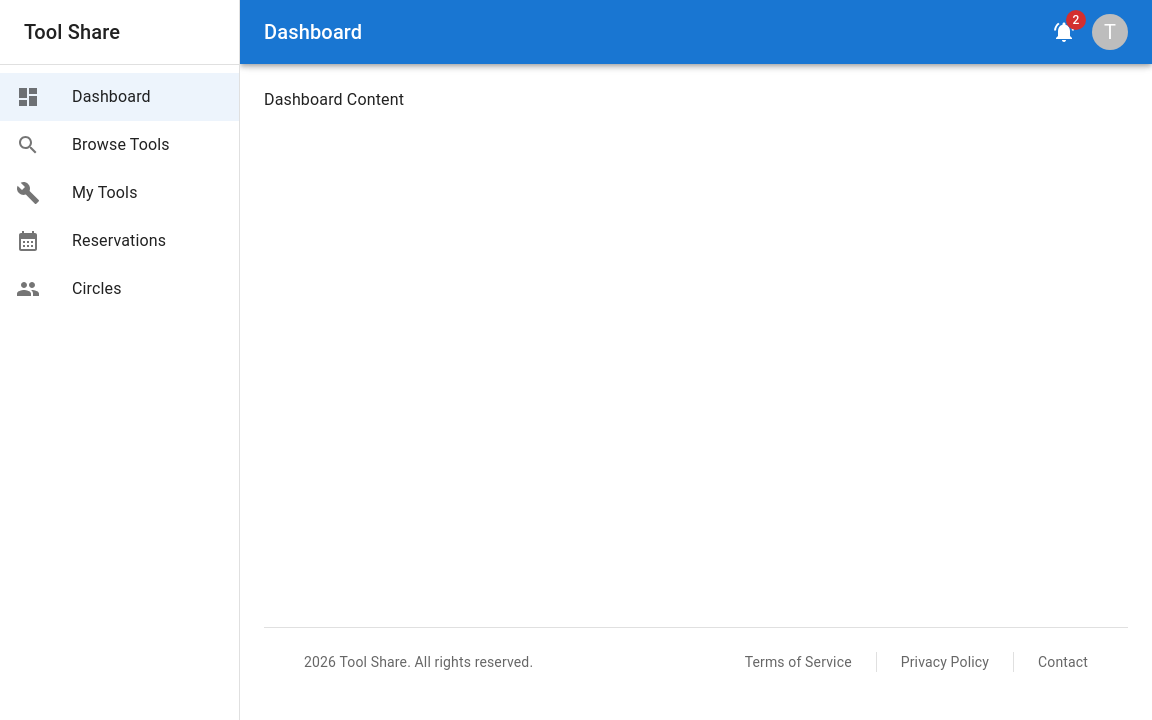
Test: Layout › user menu › should open user menu when avatar is clicked
Click the button "T". click: (1110, 32)
box: top-left (1092, 14), bottom-right (1128, 50)
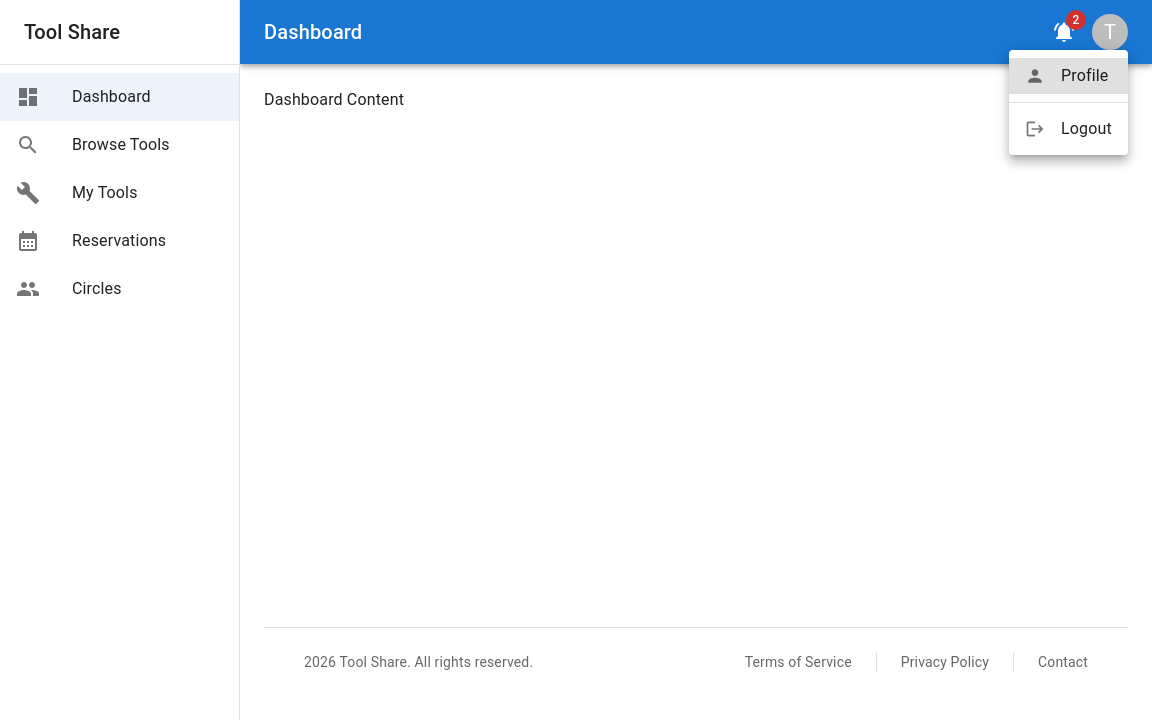
Expected: the menu item "Profile" is shown, top-left (1009, 58), bottom-right (1128, 94)
